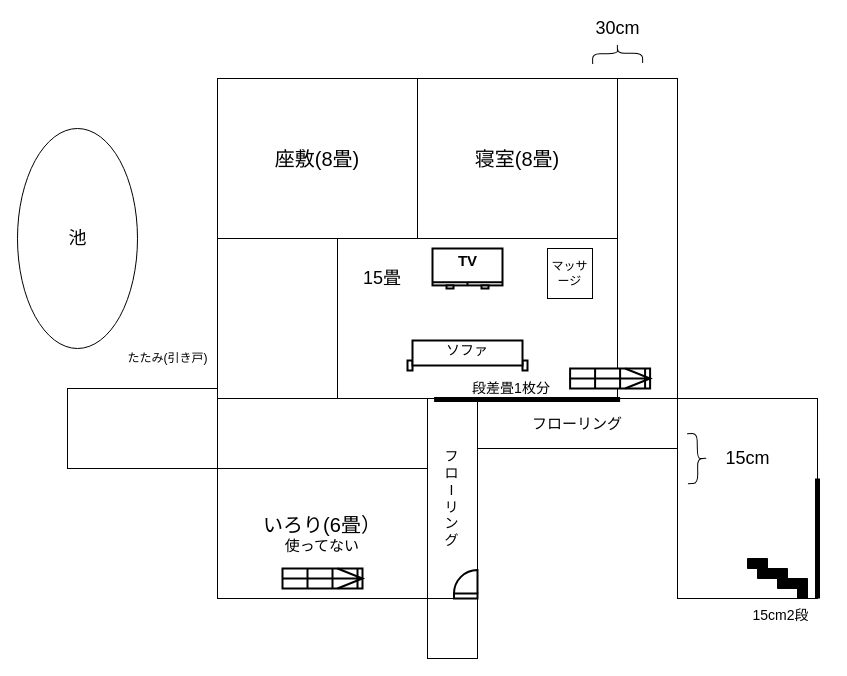
Image size: 847x676. Some labels were removed from this diagram. Each missing label, with the centre of its shape:
"お風呂" goes at point 142,428.
"トイレ" goes at point 452,628.
"台所(10畳)" goes at point 322,433.
"居間(よくいるところ)" goes at point 277,318.
"縁側 （洗濯）" goes at point 647,238.
